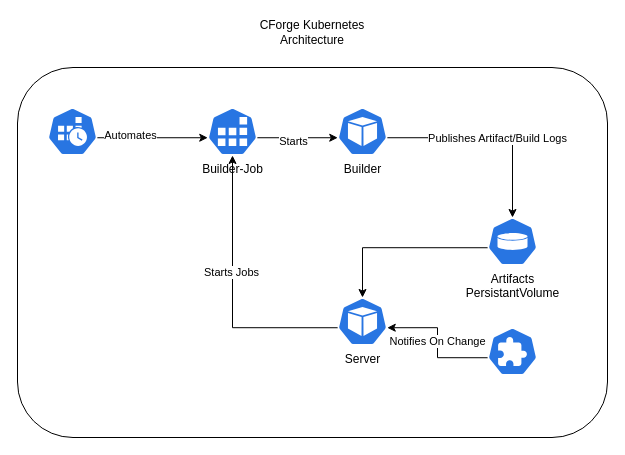
The diagram is 625 pixels wide and 455 high, and some of its shapes have lost their labels. Each missing label, with the centre of its shape:
Builder-CronJob: [72,131]
Configuration: [512,351]
